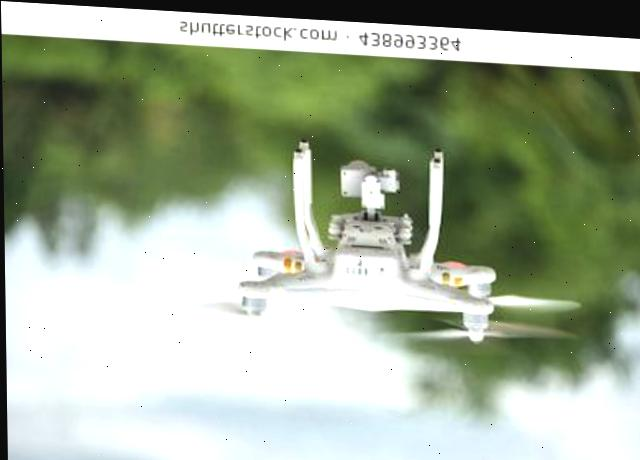drone: (163, 91, 604, 419)
